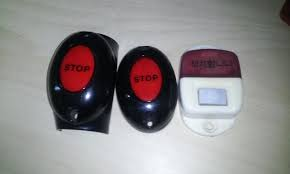bell: (116, 45, 179, 136)
